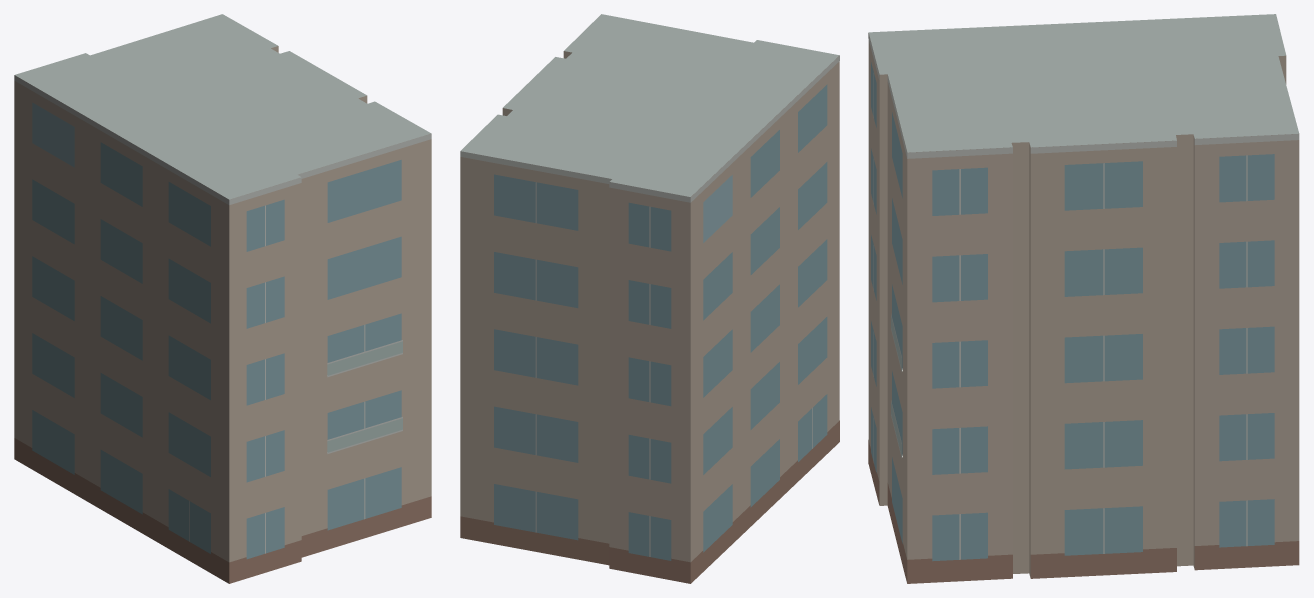
The model's file is survey-upis-32846134.glb.
3 renders of one model, left to right at view 1: azimuth 30°, elevation 25°; view 2: azimuth 150°, elevation 25°; view 3: azimuth 270°, elevation 25°, orthographic. The views are drawn at different scales.
Visible parts, largest first — view 1: survey-upis-32846134.tmp; view 2: survey-upis-32846134.tmp; view 3: survey-upis-32846134.tmp.
Boxes of the visible parts, x1,y1,x2,y2 form: survey-upis-32846134.tmp: (14, 14, 431, 583); survey-upis-32846134.tmp: (460, 14, 839, 583); survey-upis-32846134.tmp: (868, 14, 1299, 583).
Bounding box in the file's own units: 11.48 × 16.65 × 15.08.
